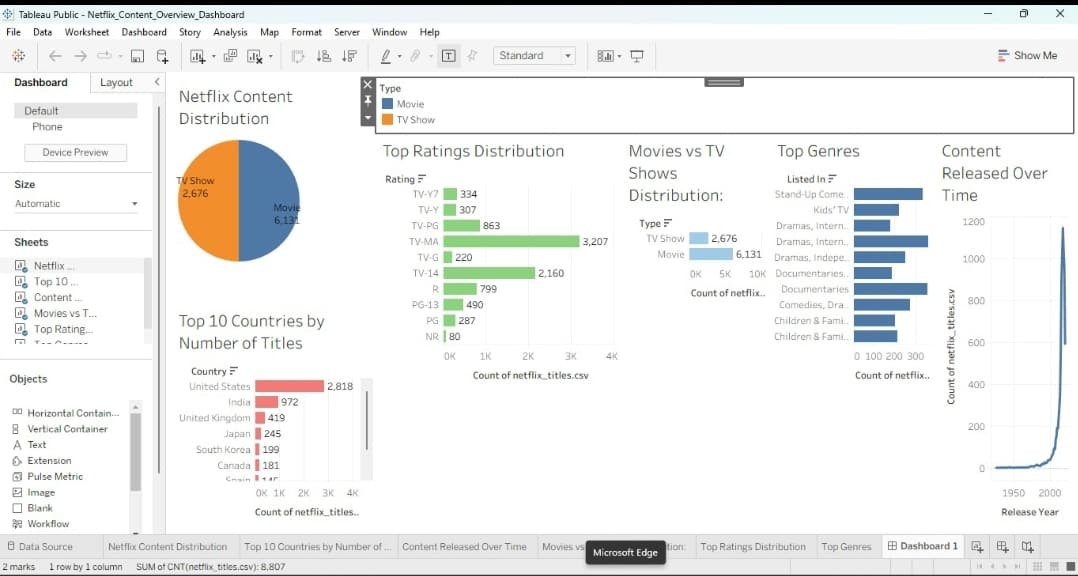

This screenshot's page, from the dashboard's own definition file:
{"tool":"tableau","page":{"name":"Dashboard 1","canvas":[1000,1000],"units":"permille","ordinal":0},"visuals":[{"type":"worksheet","title":"Netflix Content Distribution","mark":"Pie","box":[6.9,13.7,223.4,486.3]},{"type":"legend","title":"Netflix Content Distribution","param":"[federated.1gooep60ubxw9a1bfv0hf1eh7c36].[none:type:nk]","box":[230.3,13.7,762.8,118.2]},{"type":"worksheet","title":"Top Ratings Distribution","mark":"Automatic","rows":["rating"],"cols":["netflix_titles.csv_472154BA1B224A148B2605381CAF19B3"],"box":[230.3,131.8,269.3,854.5]},{"type":"worksheet","title":"Movies vs TV Shows Distribution:","mark":"Automatic","rows":["type"],"cols":["netflix_titles.csv_472154BA1B224A148B2605381CAF19B3"],"box":[499.6,131.8,162.8,854.5]},{"type":"worksheet","title":"Top Genres ","mark":"Automatic","rows":["listed_in"],"cols":["netflix_titles.csv_472154BA1B224A148B2605381CAF19B3"],"box":[662.3,131.8,180.1,854.5]},{"type":"worksheet","title":"Content Released Over Time","mark":"Automatic","rows":["netflix_titles.csv_472154BA1B224A148B2605381CAF19B3"],"cols":["release_year"],"box":[842.4,131.8,150.6,854.5]},{"type":"worksheet","title":"Top 10 Countries by Number of Titles","mark":"Automatic","rows":["country"],"cols":["netflix_titles.csv_472154BA1B224A148B2605381CAF19B3"],"box":[6.9,500,223.4,486.3]}]}

Visuals, with their boxes on the dashboard's canvas, which has no fixed pixel size, in thousandths of its width and height (x1, y1, x2, y2). These are canvas units, not pixel positions in the 1078x576 screenshot, which may show the page scaled, cropped or inside an application window:
"Netflix Content Distribution" worksheet (Pie marks): [x1=7, y1=14, x2=230, y2=500]
"Netflix Content Distribution" legend: [x1=230, y1=14, x2=993, y2=132]
"Top Ratings Distribution" worksheet: [x1=230, y1=132, x2=500, y2=986]
"Movies vs TV Shows Distribution:" worksheet: [x1=500, y1=132, x2=662, y2=986]
"Top Genres " worksheet: [x1=662, y1=132, x2=842, y2=986]
"Content Released Over Time" worksheet: [x1=842, y1=132, x2=993, y2=986]
"Top 10 Countries by Number of Titles" worksheet: [x1=7, y1=500, x2=230, y2=986]
